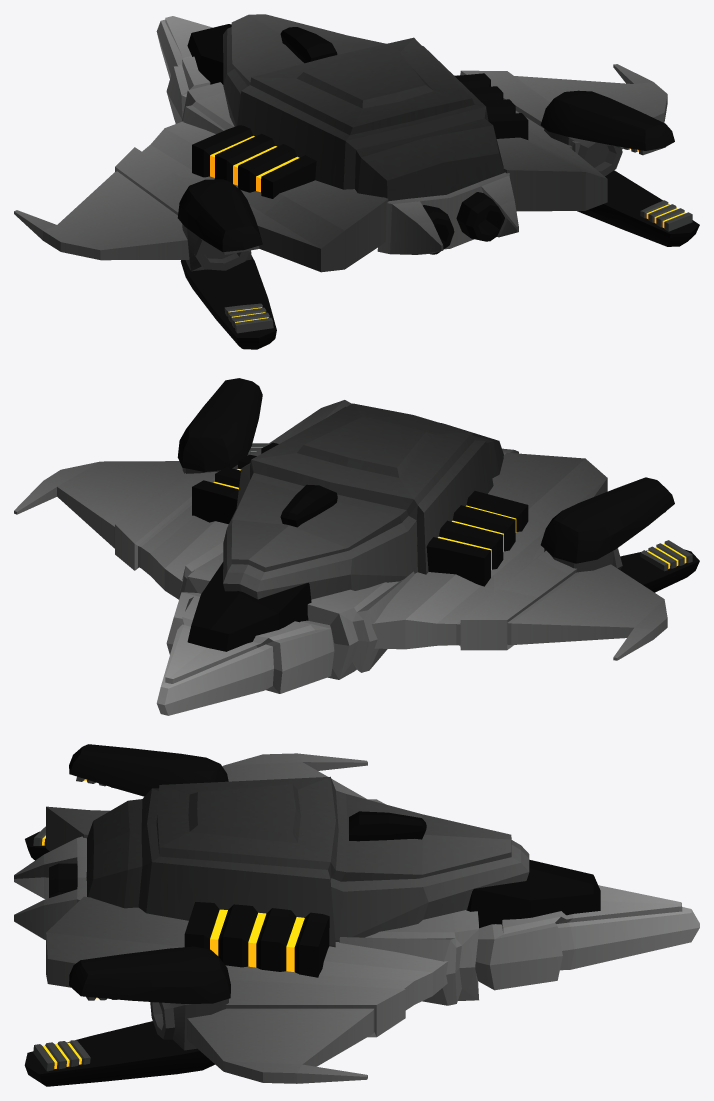
Rendered from SpaceShip_01.fbx.
3 views of the same model, one above another, from view 1: azimuth 30°, elevation 25°; view 2: azimuth 150°, elevation 25°; view 3: azimuth 270°, elevation 25° (orthographic). The views are drawn at different scales.
Parts seen in each view (by area): view 1: Wings, MainBody, Propeller, CockPit, Tubes; view 2: Wings, MainBody, CockPit, Propeller; view 3: MainBody, Wings, CockPit, Propeller, Tubes.
Boxes of the visible parts, bbox=[...] form: Wings: bbox=[14, 64, 667, 272]; MainBody: bbox=[223, 14, 518, 254]; Propeller: bbox=[177, 90, 699, 349]; CockPit: bbox=[156, 16, 234, 133]; Tubes: bbox=[423, 192, 504, 254]; Wings: bbox=[14, 400, 667, 660]; MainBody: bbox=[223, 403, 518, 599]; CockPit: bbox=[156, 541, 414, 715]; Propeller: bbox=[177, 378, 699, 592]; MainBody: bbox=[14, 776, 529, 947]; Wings: bbox=[46, 753, 448, 1083]; CockPit: bbox=[339, 859, 699, 1005]; Propeller: bbox=[24, 744, 230, 1086]; Tubes: bbox=[49, 863, 77, 897].
Size of the model in its own units: 172 by 40.96 by 156.
